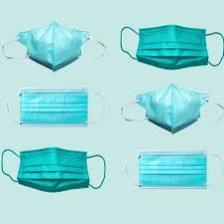mask: (7, 17, 101, 74), (119, 20, 218, 72), (126, 82, 215, 138), (9, 143, 94, 196), (132, 148, 214, 198), (12, 85, 95, 132)
